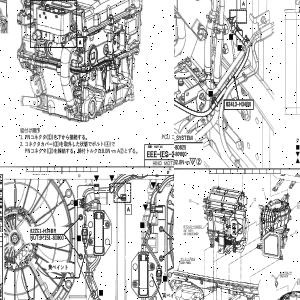PartNumber: (30, 227, 57, 234), (226, 101, 252, 107), (39, 234, 64, 240), (174, 150, 186, 157), (174, 144, 186, 150), (183, 225, 202, 228)
